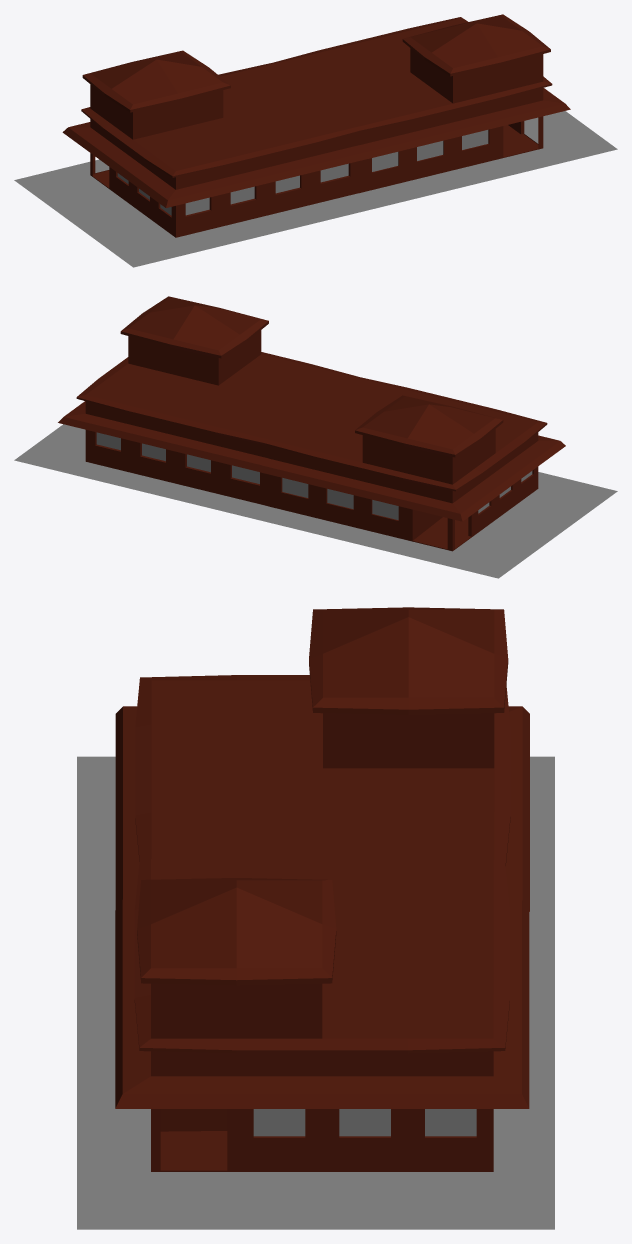
The model's file is supermarket.glb.
The picture shows the model from 3 angles, top to bottom: view 1: azimuth 30°, elevation 25°; view 2: azimuth 150°, elevation 25°; view 3: azimuth 270°, elevation 25°; orthographic projection. The views are drawn at different scales.
Parts seen in each view (by area): view 1: supermarket; view 2: supermarket; view 3: supermarket.
Part boxes in pixels (x1,y1,x2,y2): supermarket: (14, 14, 617, 267); supermarket: (14, 296, 617, 578); supermarket: (77, 607, 554, 1229).
Size of the model in its own units: 103 by 24.71 by 43.99.
